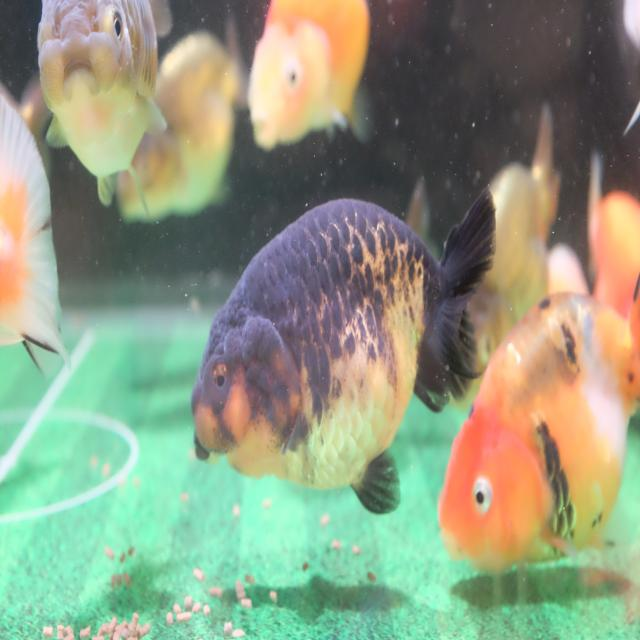Goldfish: (188, 183, 499, 520), (435, 271, 640, 578), (34, 0, 174, 223), (246, 0, 373, 154)
